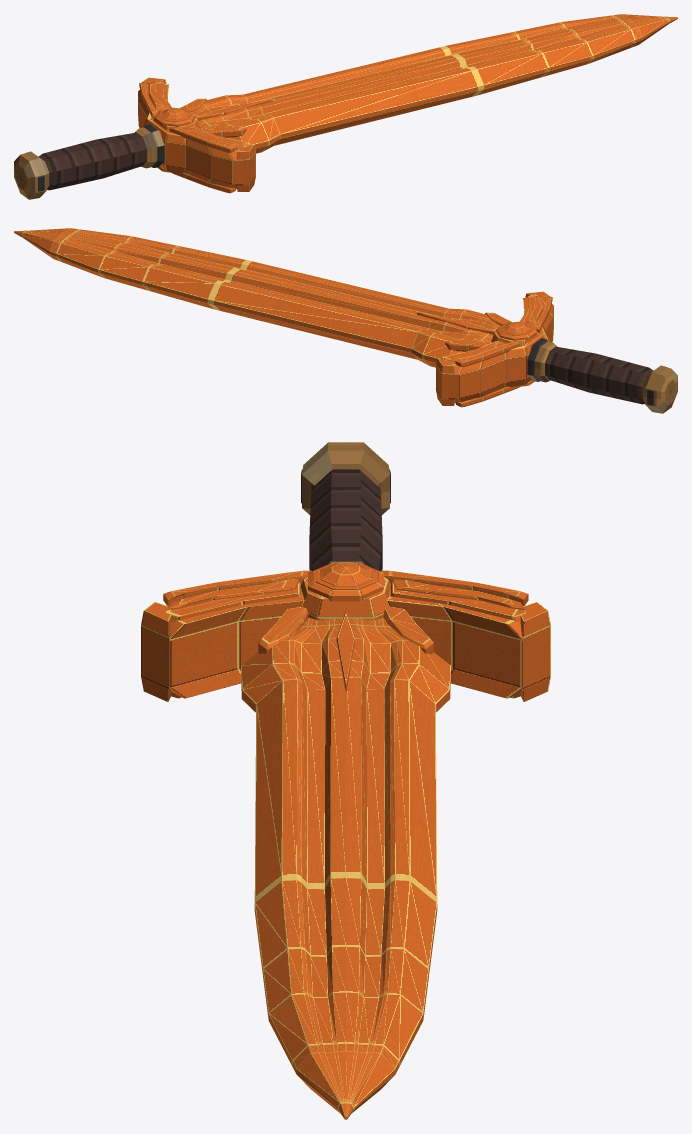
The model's file is bench_jindan_jinwu_sword_5_hot.obj.
The picture shows the model from 3 angles, top to bottom: view 1: azimuth 30°, elevation 25°; view 2: azimuth 150°, elevation 25°; view 3: azimuth 270°, elevation 25°; orthographic projection. The views are drawn at different scales.
Visible parts, largest first — view 1: geometry; view 2: geometry; view 3: geometry.
Part boxes in pixels (bbox=[...]): geometry: bbox=[14, 14, 677, 199]; geometry: bbox=[14, 228, 677, 413]; geometry: bbox=[141, 442, 550, 1119].
Bounding box in the file's own units: 0.75 × 0.0664 × 0.2027.
